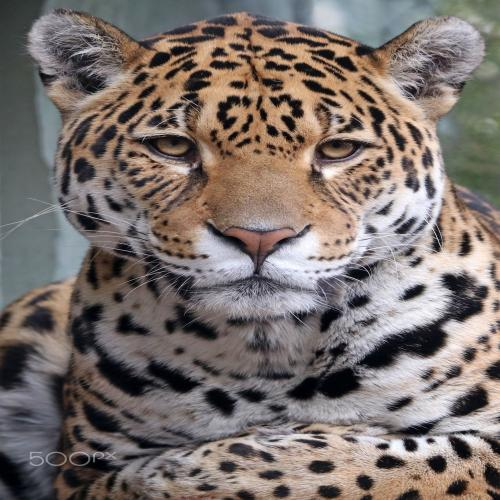jaguar_not-endangered: (23, 12, 462, 487)
